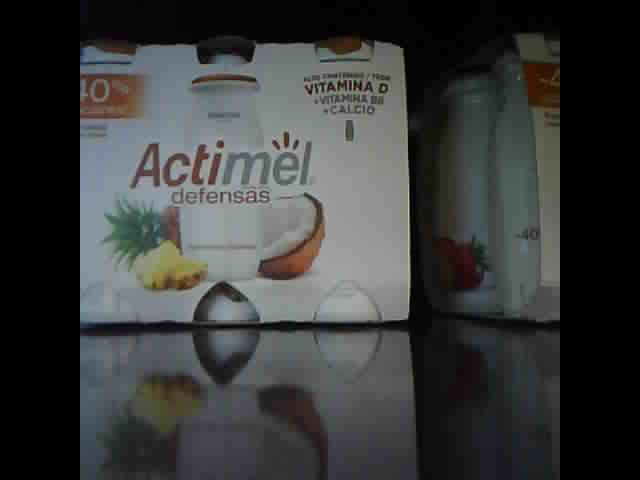actimel: (80, 34, 412, 329), (426, 25, 560, 325)
